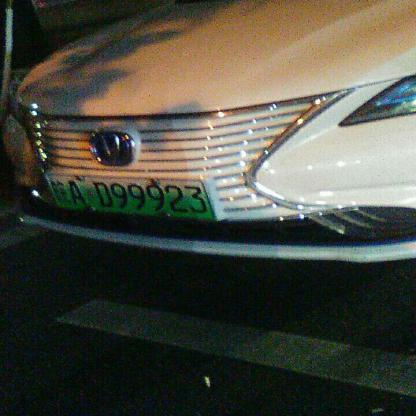lp: (57, 173, 201, 220)
